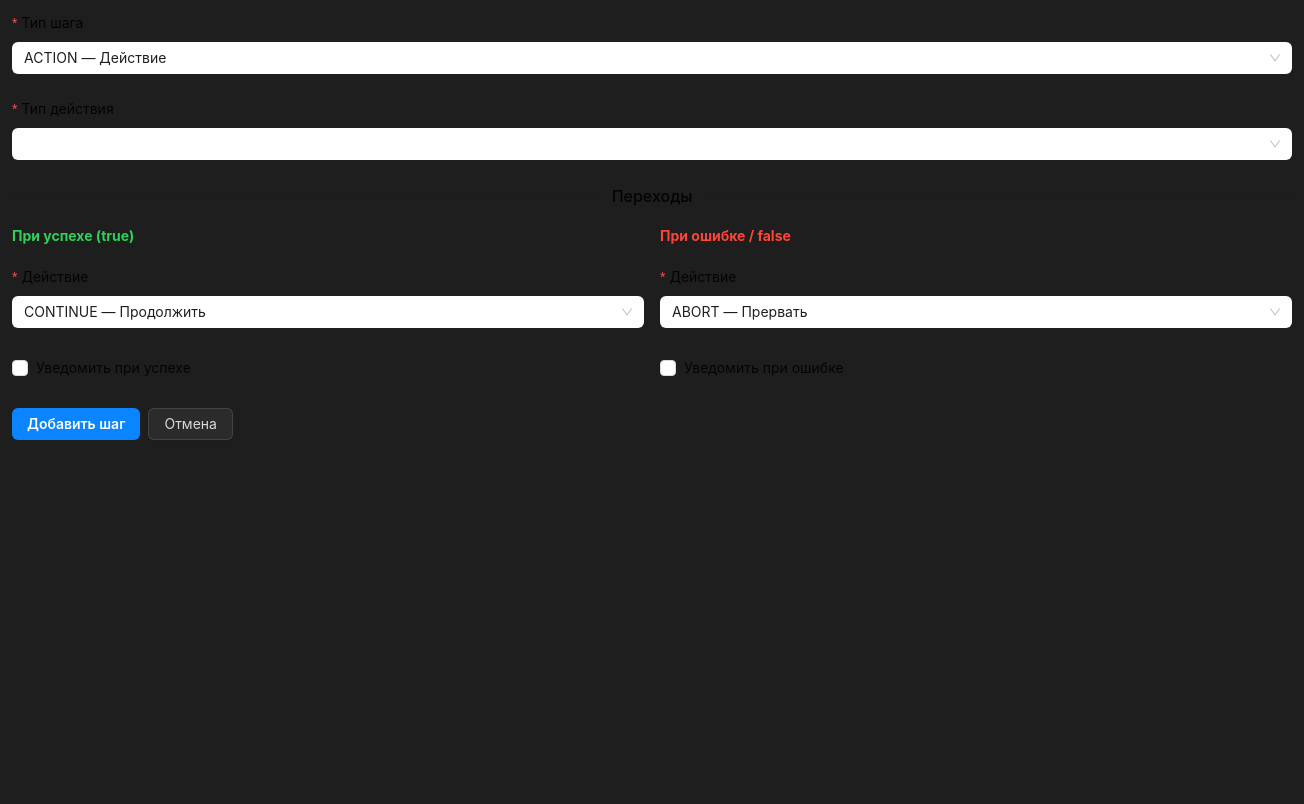
StepForm › выбор SEND_UPLINK: показывает поле «Шаблон сообщения» с переведённой опцией
What coordinates should you click on to do the following:
click the dropdown labelled "Тип действия"
I would click on:
 (70, 109)
Its box is [12,98,128,120].
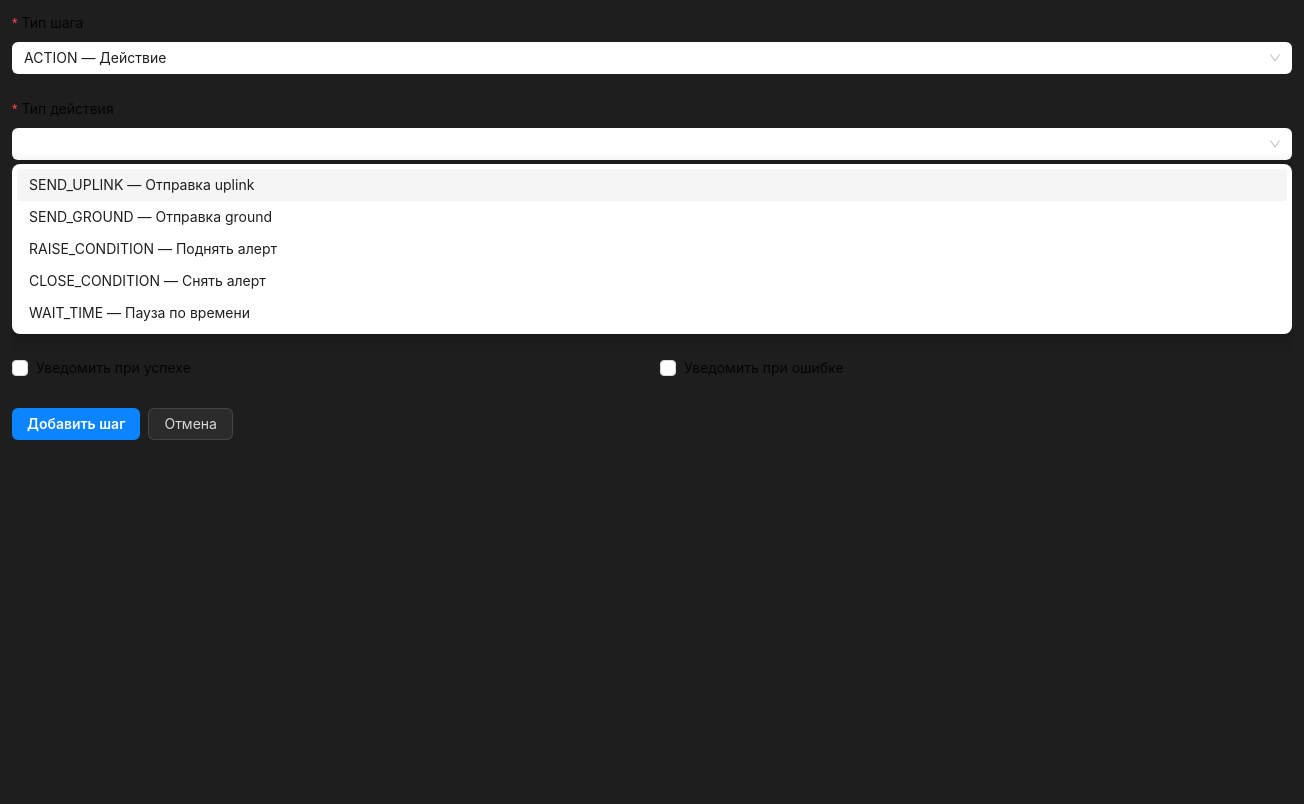
Expected: the text "SEND_UPLINK — Отправка uplink" is shown
What coordinates should you click on to do the following:
click the text "SEND_UPLINK — Отправка uplink"
I would click on:
 (142, 184)
Its box is [29,176,254,193].
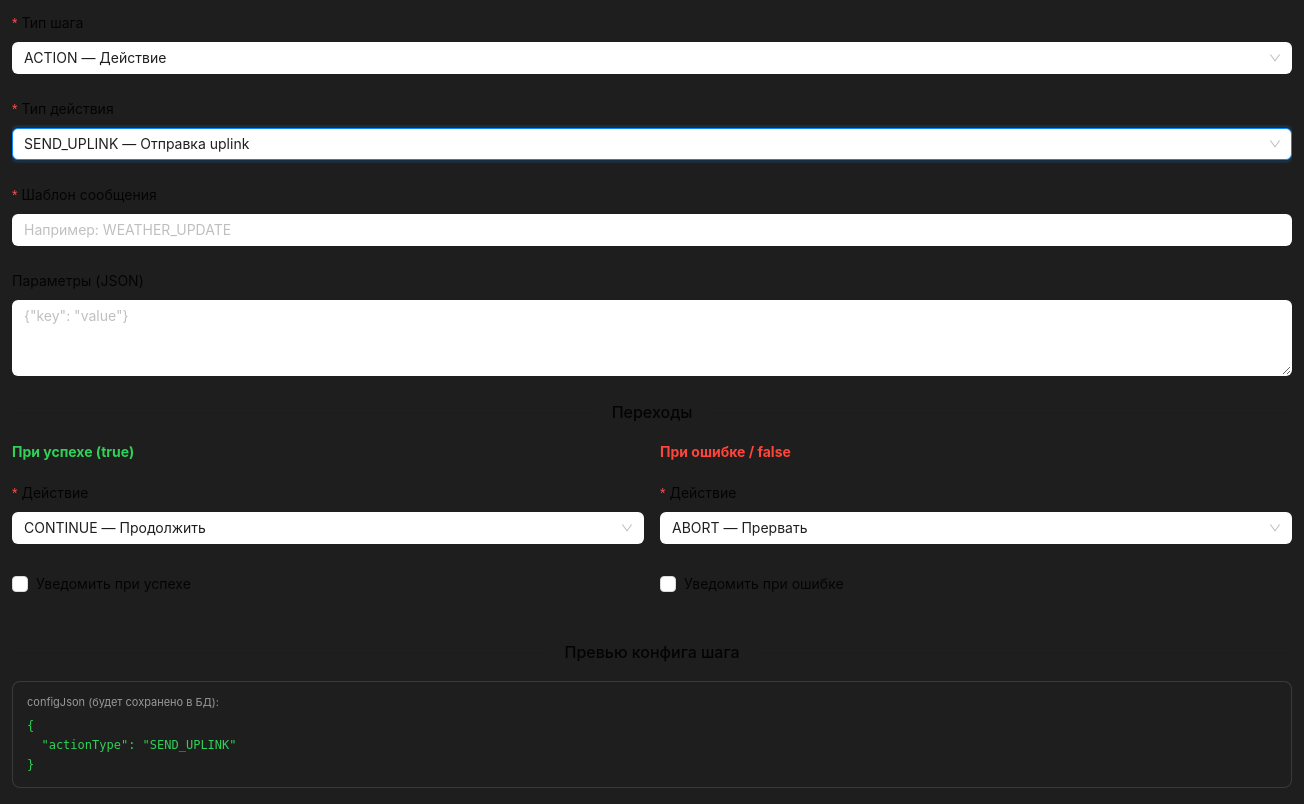
Expected: the text "Шаблон сообщения" is shown, [12,184,171,206]
Expected: the text "Параметры (JSON)" is shown, [12,270,158,292]
